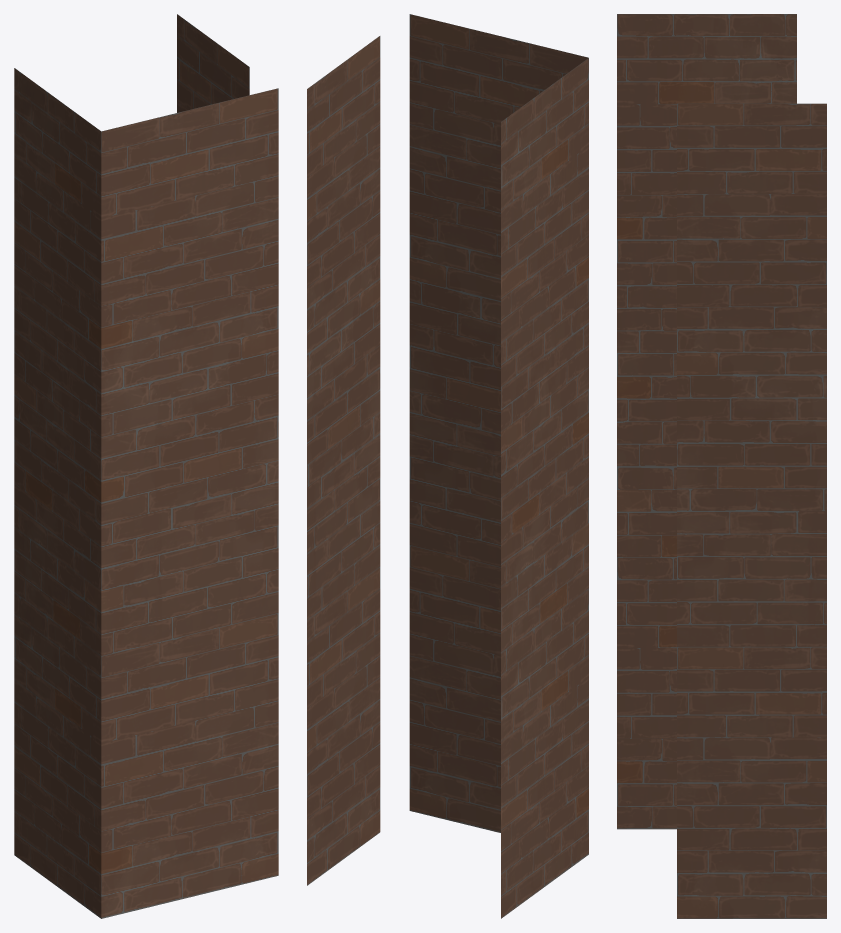
File: Brick_90Angle_R.gltf
The picture shows the model from 3 angles, left to right: view 1: azimuth 30°, elevation 25°; view 2: azimuth 150°, elevation 25°; view 3: azimuth 270°, elevation 25°; orthographic projection. The views are drawn at different scales.
Visible parts, largest first — view 1: Brick_90Angle_R; view 2: Brick_90Angle_R; view 3: Brick_90Angle_R.
Part boxes in pixels (box(x1,y1,x2,y2)): Brick_90Angle_R: box(14, 14, 278, 918); Brick_90Angle_R: box(307, 14, 588, 918); Brick_90Angle_R: box(617, 14, 826, 918).
Bounding box in the file's own units: 0.7062 × 3 × 0.7.
Materials: 2 (2 with a texture image).
